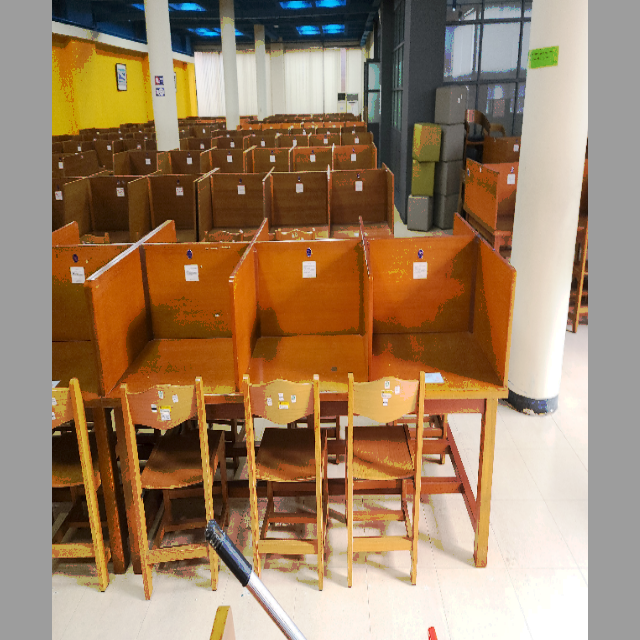empty: (104, 240, 238, 476), (380, 236, 510, 472), (244, 239, 371, 480)
